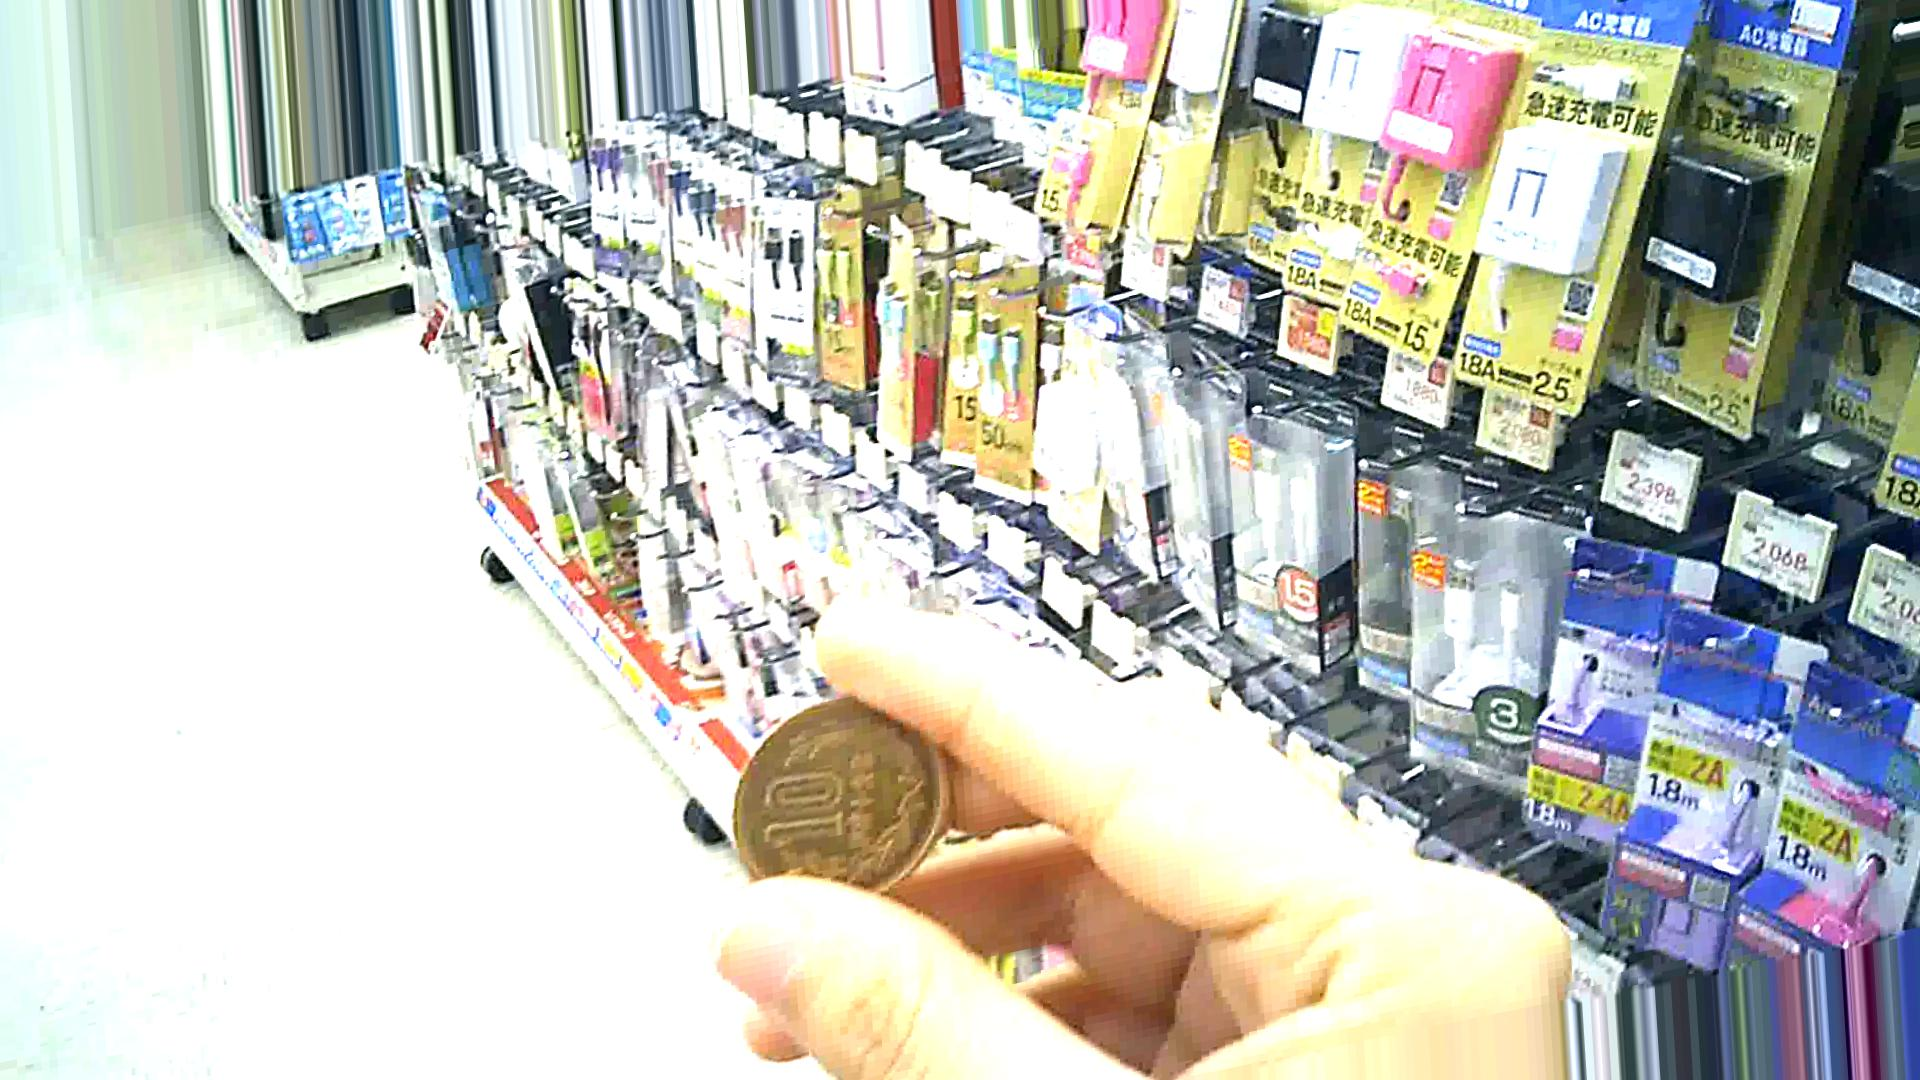10 Yen: (712, 687, 960, 907)
